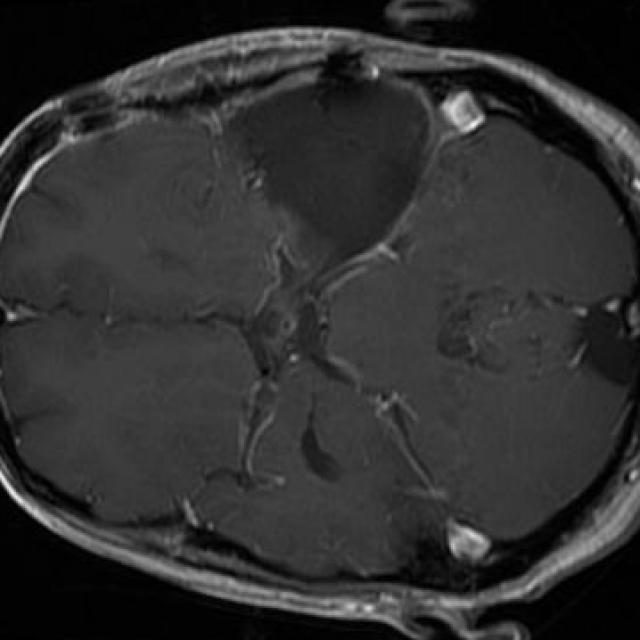glioma: (234, 80, 435, 258)
